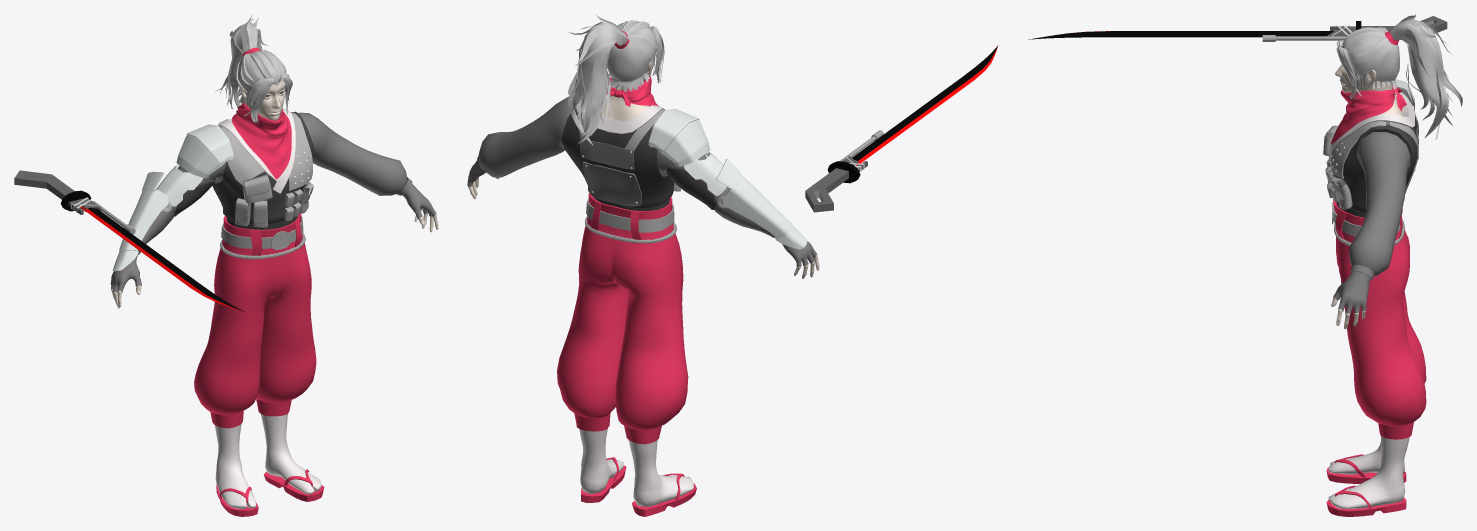
Rendered from T-Pose_kenmotsu_ver2.fbx.
3 views of the same model, side by side, from view 1: azimuth 30°, elevation 25°; view 2: azimuth 150°, elevation 25°; view 3: azimuth 270°, elevation 25° (orthographic). The views are drawn at different scales.
Parts seen in each view (by area): view 1: kuzi, shangyi, katana_kari, weijing1, polySurface97, pCube9, socks_L, socks_R, pCube11, polySurface16, polySurface96, pCube10 (+4 smaller); view 2: kuzi, shangyi, polySurface97, katana_kari, pCube11, pCube9, polySurface96, socks_L, socks_R, polySurface16, pCube10, polySurface14 (+2 smaller); view 3: shangyi, kuzi, polySurface97, katana_kari, socks_R, polySurface96, weijing1, polySurface16, shoes_R, socks_L, shoes_L, hair_front.
Boxes of the visible parts, <box> form: kuzi: <box>194,212,316,428</box>; shangyi: <box>110,108,436,292</box>; katana_kari: <box>14,170,245,312</box>; weijing1: <box>231,102,291,179</box>; polySurface97: <box>215,14,286,108</box>; pCube9: <box>176,124,233,178</box>; socks_L: <box>215,424,256,508</box>; socks_R: <box>261,414,321,494</box>; pCube11: <box>112,171,168,271</box>; polySurface16: <box>111,81,438,308</box>; polySurface96: <box>237,50,286,104</box>; pCube10: <box>155,164,202,206</box>; kuzi: <box>557,193,688,444</box>; shangyi: <box>467,96,816,266</box>; polySurface97: <box>568,15,657,145</box>; katana_kari: <box>805,45,998,212</box>; pCube11: <box>716,159,807,249</box>; pCube9: <box>648,108,710,166</box>; polySurface96: <box>607,21,657,91</box>; socks_L: <box>628,440,693,506</box>; socks_R: <box>579,428,623,493</box>; polySurface16: <box>468,43,819,278</box>; pCube10: <box>684,151,726,195</box>; polySurface14: <box>666,167,716,209</box>; shangyi: <box>1323,92,1418,313</box>; kuzi: <box>1332,200,1426,439</box>; polySurface97: <box>1342,14,1462,139</box>; katana_kari: <box>1028,16,1447,41</box>; socks_R: <box>1328,436,1409,508</box>; polySurface96: <box>1343,27,1399,89</box>; weijing1: <box>1330,85,1406,144</box>; polySurface16: <box>1331,64,1403,329</box>; shoes_R: <box>1326,485,1406,516</box>; socks_L: <box>1328,439,1405,474</box>; shoes_L: <box>1326,454,1406,483</box>; hair_front: <box>1336,39,1392,99</box>.
Bounding box in the file's own units: 168 × 196 × 159.
